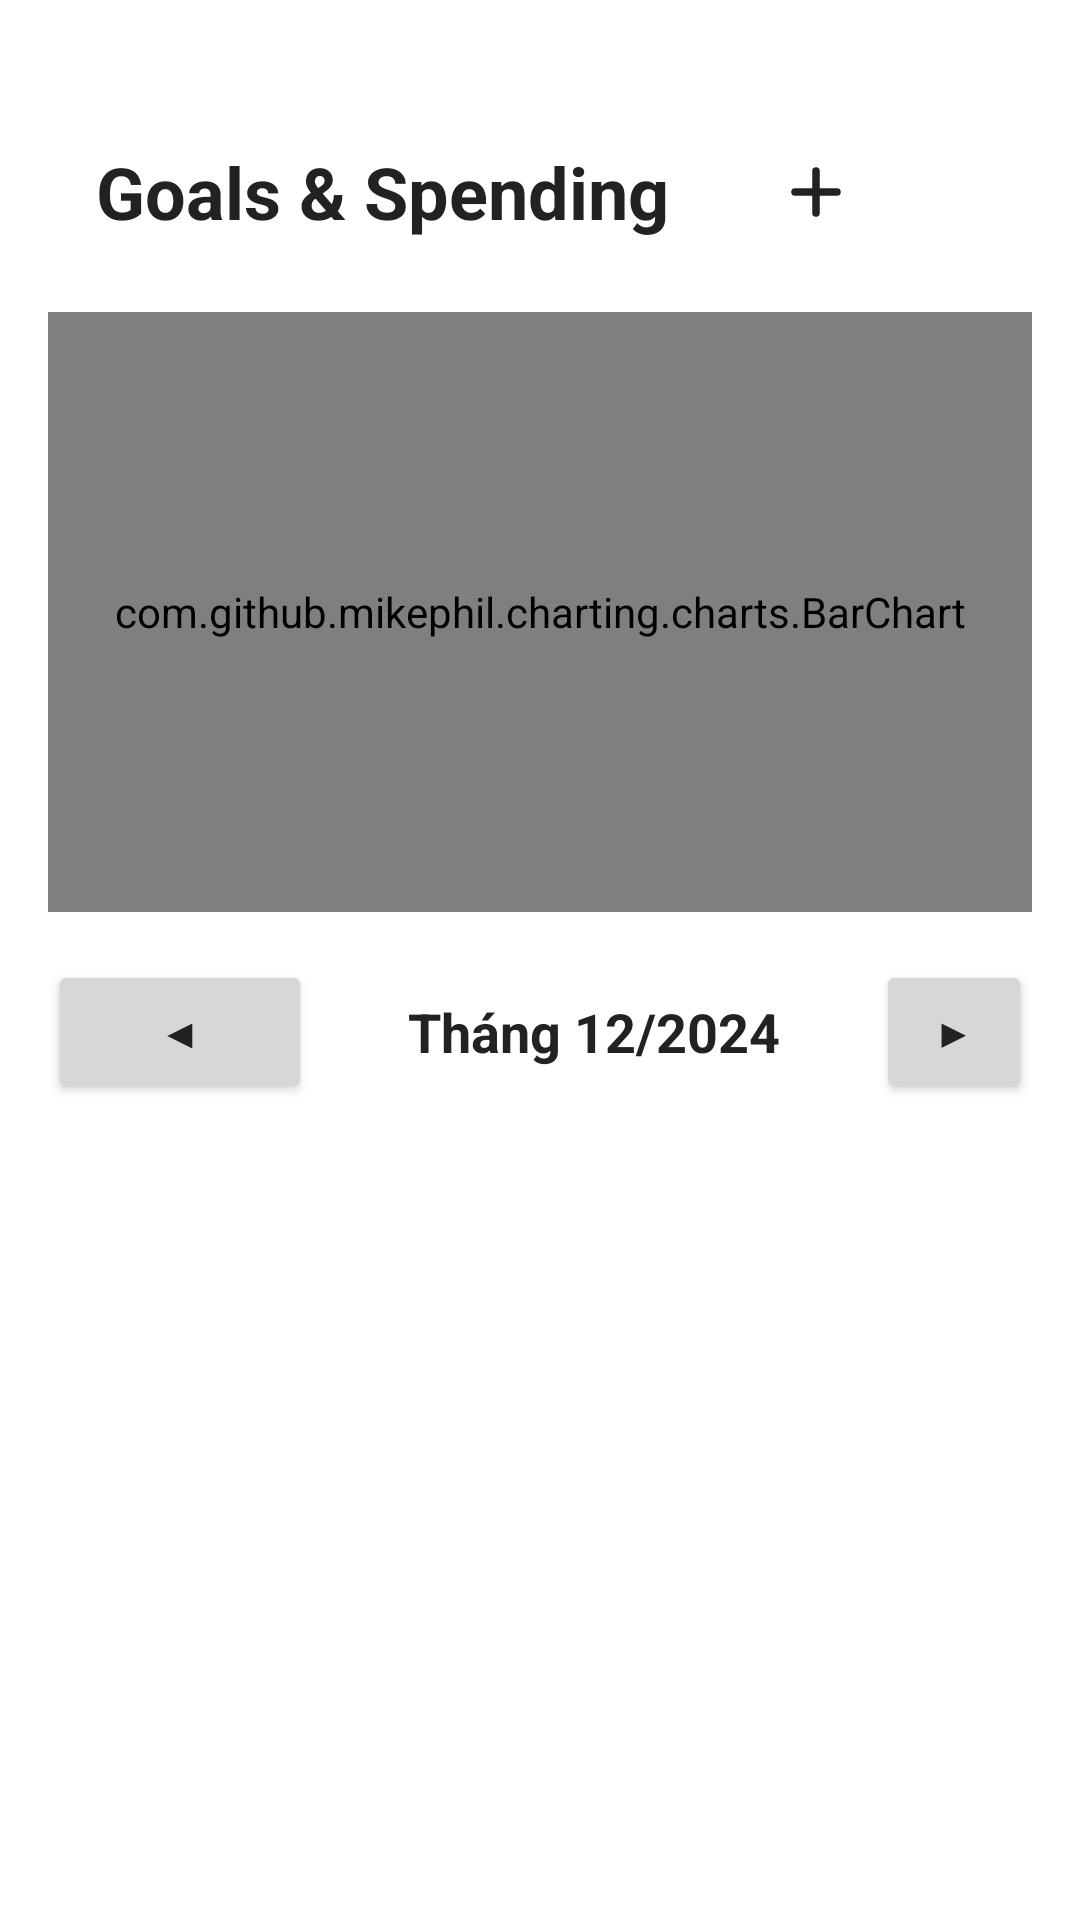

Icon bounding boxes for this 1080 x 1920 phone screenshot, format (x1, y1, x2, y2):
Add Goal: (791, 167, 841, 217)
